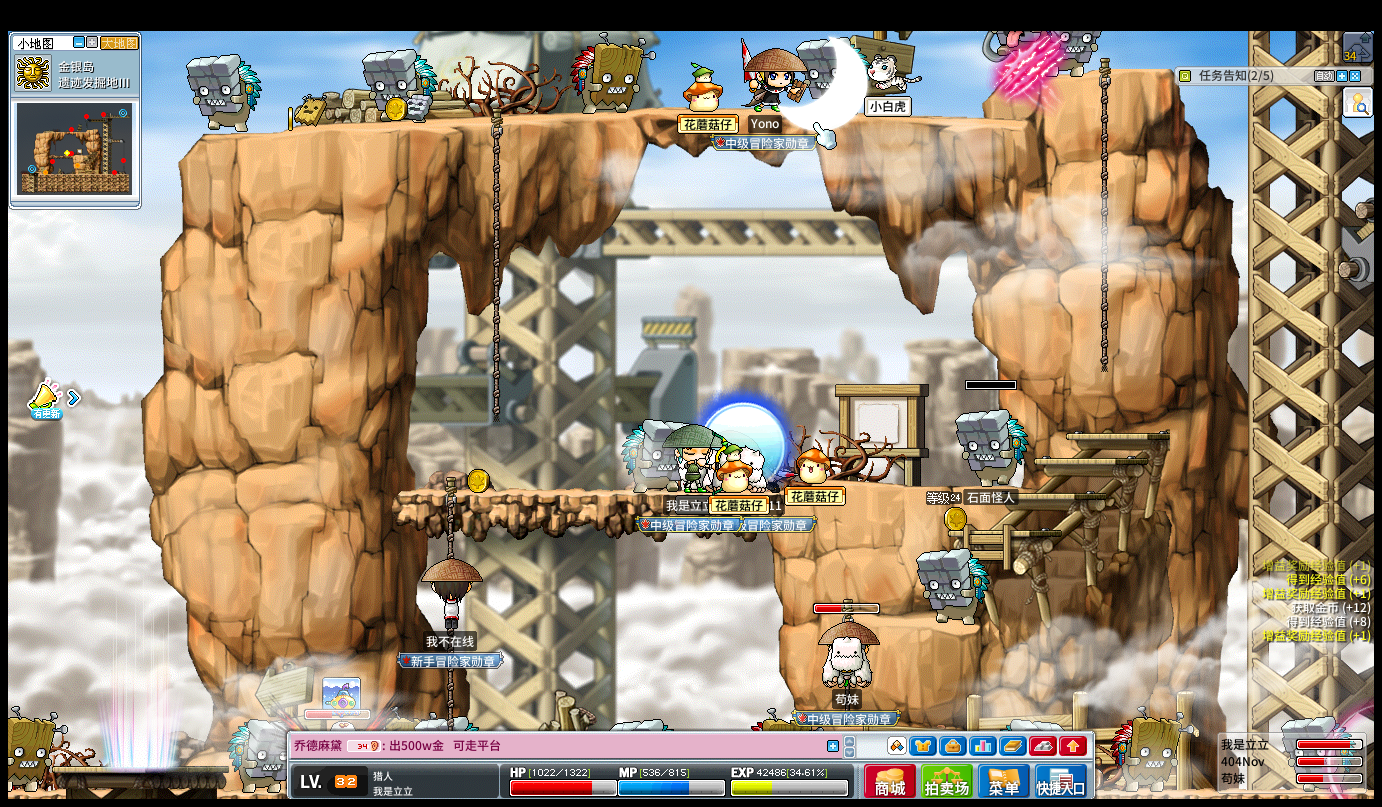floor: (199, 103, 1084, 137), (394, 488, 779, 499), (1021, 63, 1171, 78), (875, 614, 980, 634), (1037, 67, 1171, 80), (890, 481, 1035, 491), (1065, 429, 1171, 441), (949, 528, 1061, 536), (1031, 456, 1143, 464), (1000, 492, 1105, 500)
monster: (569, 30, 648, 113), (1113, 711, 1193, 791), (185, 53, 262, 133), (915, 548, 988, 625), (363, 47, 436, 124), (955, 409, 1027, 483), (3, 710, 66, 790), (227, 720, 288, 792), (619, 418, 675, 492), (995, 29, 1045, 93)
rope: (1096, 61, 1111, 371), (490, 103, 502, 421), (442, 475, 457, 559), (1096, 265, 1108, 367)
